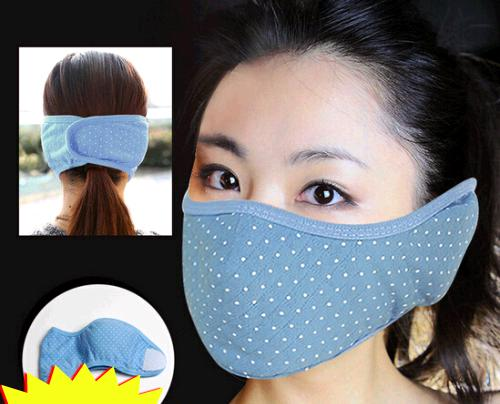OK: (187, 108, 402, 383)
